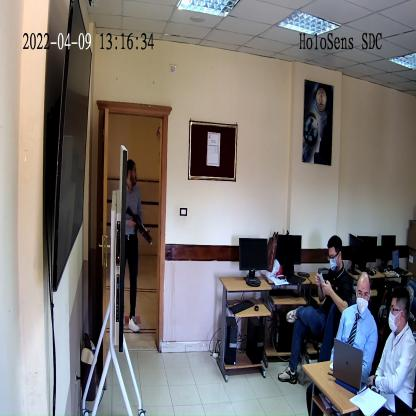handgun: (125, 206, 151, 246)
